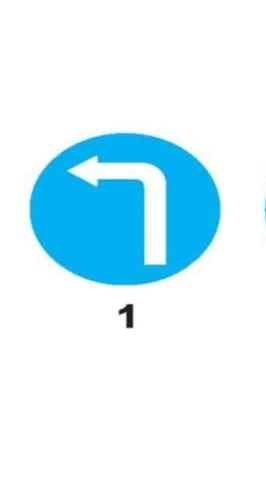Turn_left: (27, 131, 222, 289)
